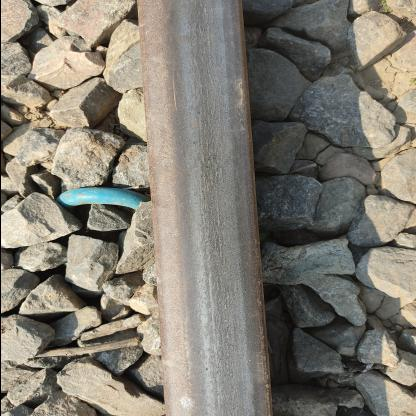Non Defective 1: (227, 162, 361, 275)
